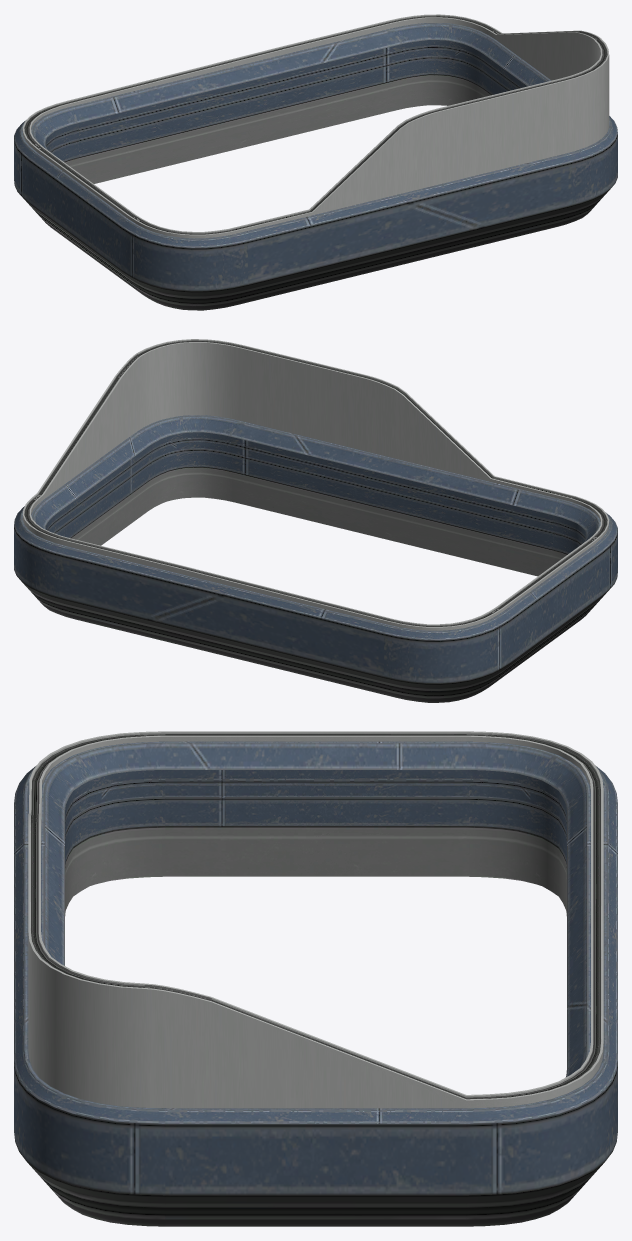
The model's file is Club_BoothTrim_01.FBX.
The picture shows the model from 3 angles, top to bottom: view 1: azimuth 30°, elevation 25°; view 2: azimuth 150°, elevation 25°; view 3: azimuth 270°, elevation 25°; orthographic projection. The views are drawn at different scales.
Visible parts, largest first — view 1: Club_BoothTrim_01; view 2: Club_BoothTrim_01; view 3: Club_BoothTrim_01.
Boxes of the visible parts, left/top/right/bottom form: Club_BoothTrim_01: left=14, top=14, right=617, bottom=310; Club_BoothTrim_01: left=14, top=339, right=617, bottom=702; Club_BoothTrim_01: left=14, top=731, right=617, bottom=1226.
Bounding box in the file's own units: 8.91 × 2.69 × 5.92.
